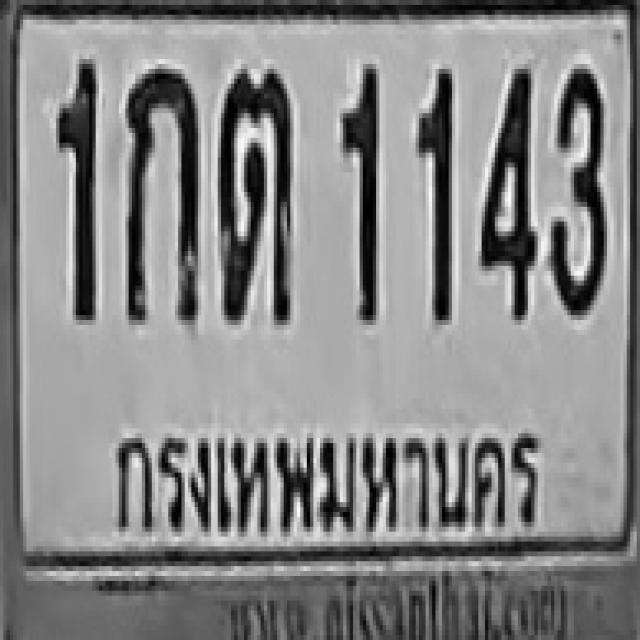1: (56, 59, 96, 320), (414, 66, 454, 322), (340, 64, 379, 325)
10GorGai: (123, 64, 200, 325)
3: (550, 66, 606, 318)
30TorTao: (218, 66, 290, 322)
4: (478, 64, 534, 320)
SamutPrakan: (100, 409, 559, 558)
